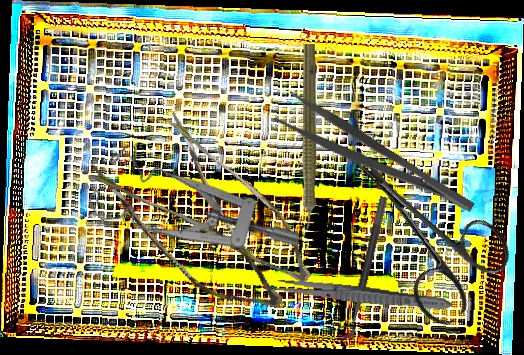Dressing Forceps: (272, 87, 478, 233), (268, 275, 453, 315)
Fixation Ring: (332, 193, 389, 341)
Handpiece: (295, 44, 319, 240)
Iris Scissors: (313, 118, 523, 333)
Micro Scissor: (60, 161, 302, 323), (130, 109, 338, 295)
Speculum: (75, 110, 305, 326)
